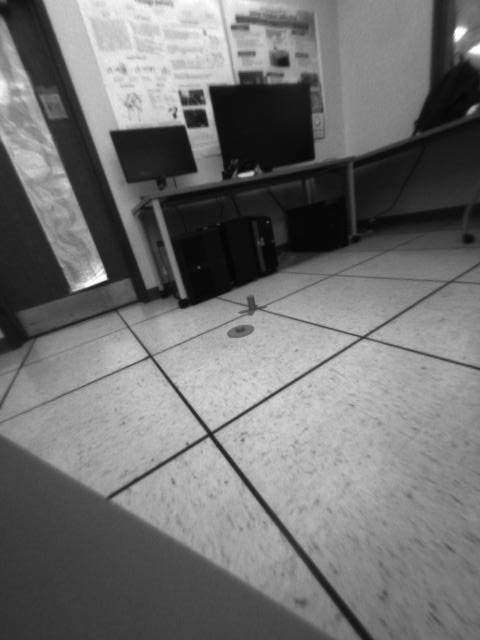X: (238, 295, 267, 315)
